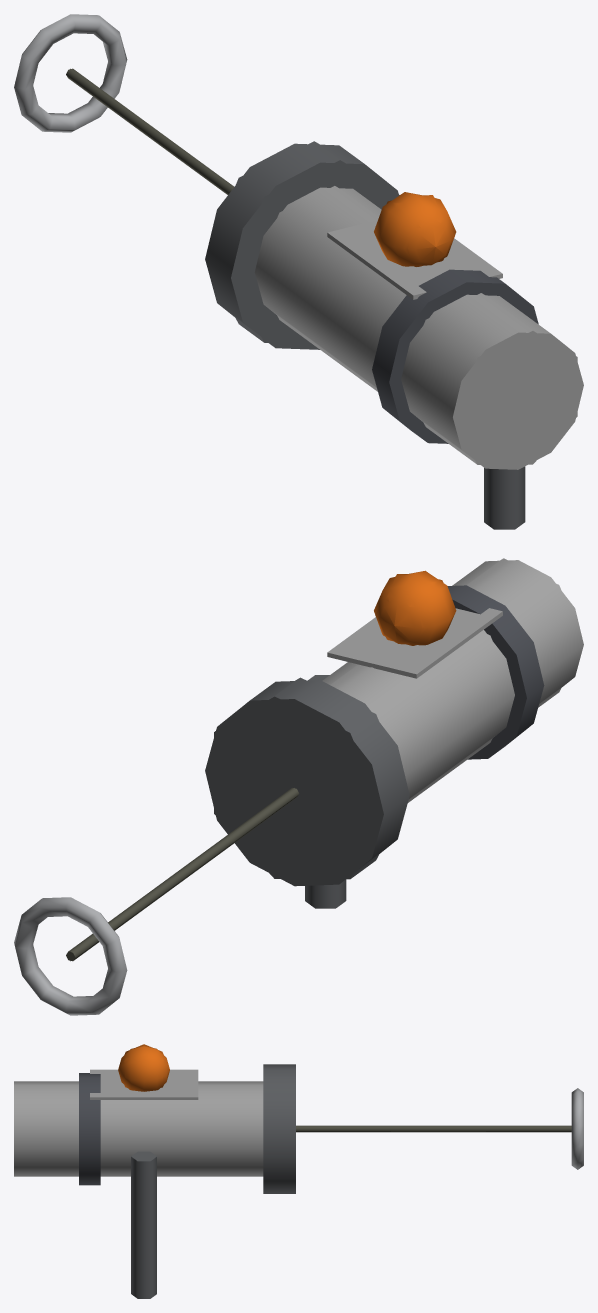
Rendered from mn_trip.glb.
The picture shows the model from 3 angles, top to bottom: view 1: azimuth 30°, elevation 25°; view 2: azimuth 150°, elevation 25°; view 3: azimuth 270°, elevation 25°; orthographic projection. The views are drawn at different scales.
Visible parts, largest first — view 1: L0, L1; view 2: L0, L1; view 3: L0, L1.
Boxes of the visible parts, box(x1,y1,x2,y2) form: L0: box(14, 14, 583, 529); L1: box(66, 68, 577, 464); L0: box(14, 560, 583, 1015); L1: box(66, 558, 561, 961); L0: box(14, 1046, 583, 1298); L1: box(14, 1044, 571, 1179).
Bounding box in the file's own units: 0.0652 × 0.112 × 0.2629.
